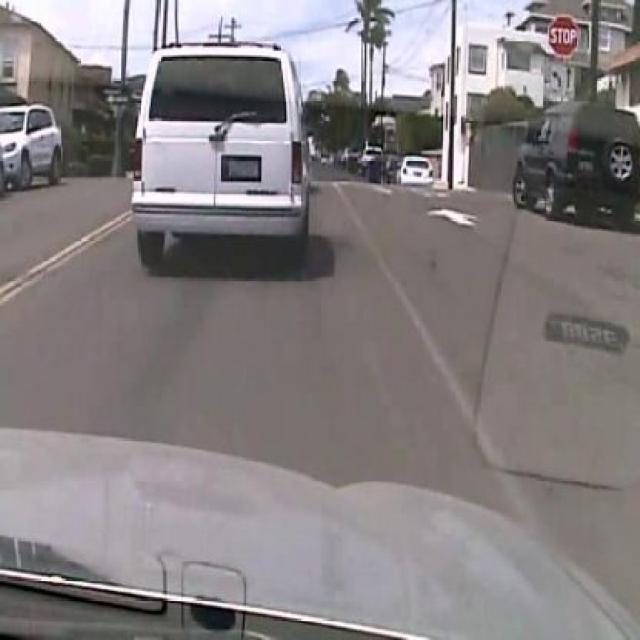traffic_sign: (546, 13, 580, 61)
